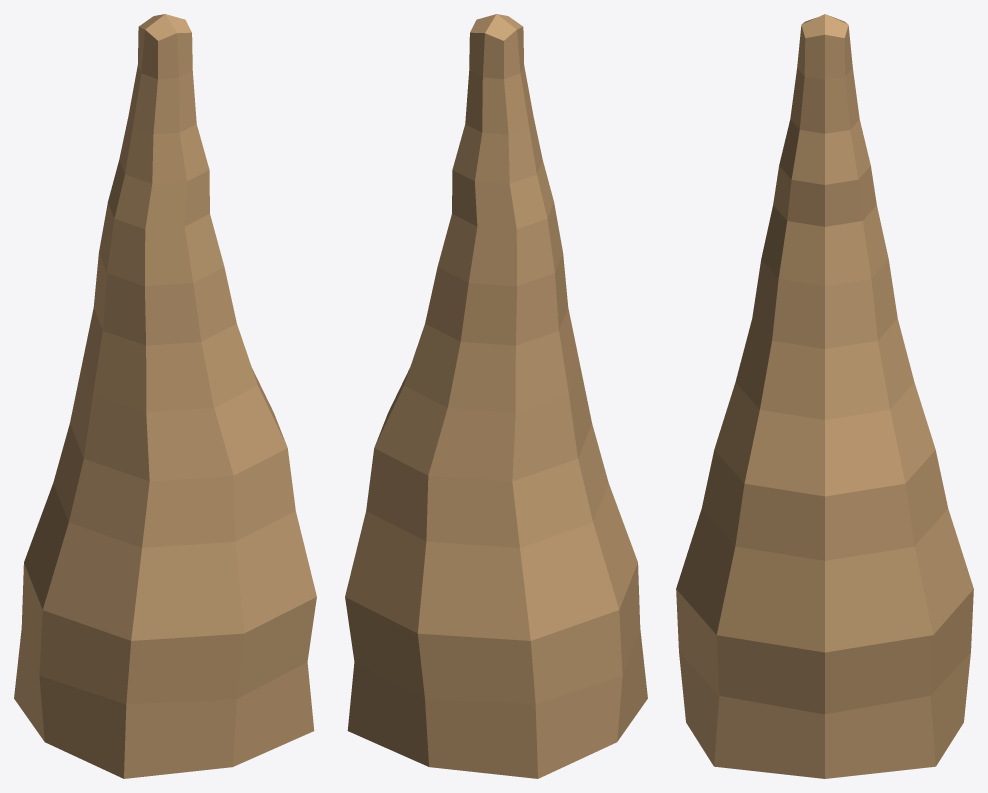
File: stalagmite_med.fbx
3 renders of one model, left to right at view 1: azimuth 30°, elevation 25°; view 2: azimuth 150°, elevation 25°; view 3: azimuth 270°, elevation 25°, orthographic.
Parts seen in each view (by area): view 1: Cube.001; view 2: Cube.001; view 3: Cube.001.
Boxes of the visible parts, x1,y1,x2,y2 form: Cube.001: (14, 14, 316, 778); Cube.001: (345, 14, 647, 778); Cube.001: (676, 14, 973, 778).
Size of the model in its own units: 76.97 by 200 by 75.97.
